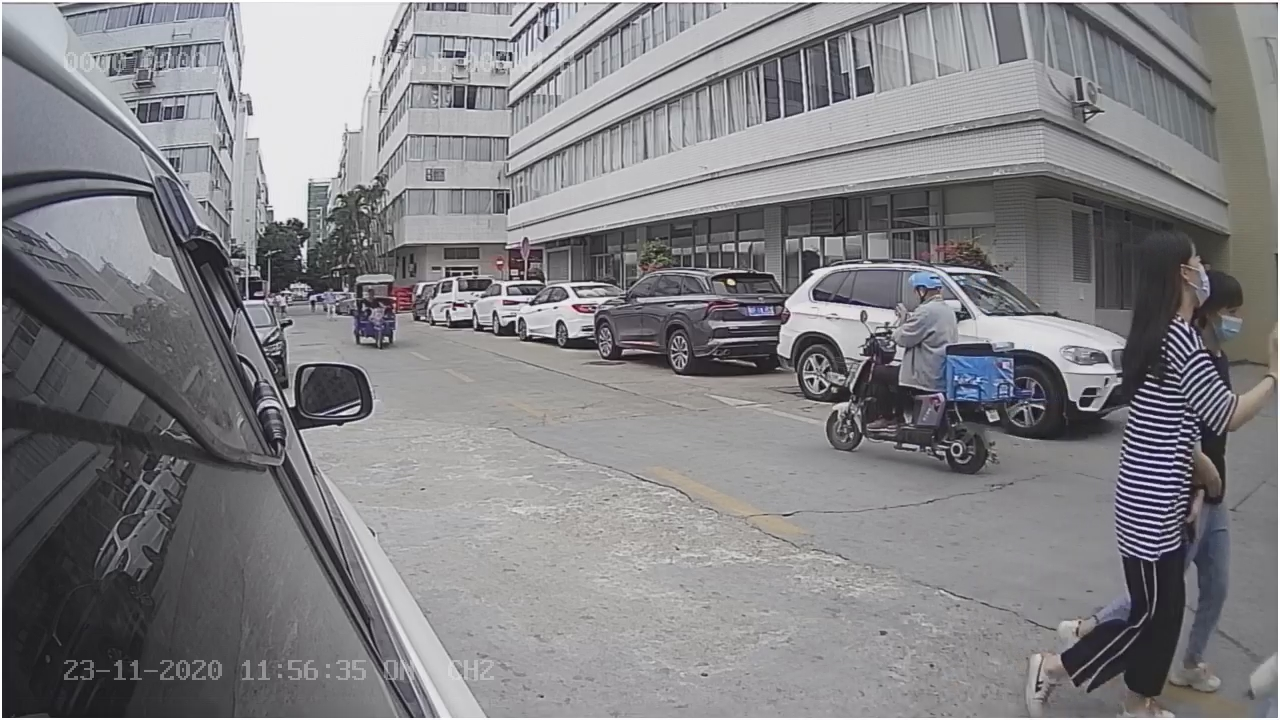person: (1094, 220, 1220, 718), (893, 268, 954, 388)
